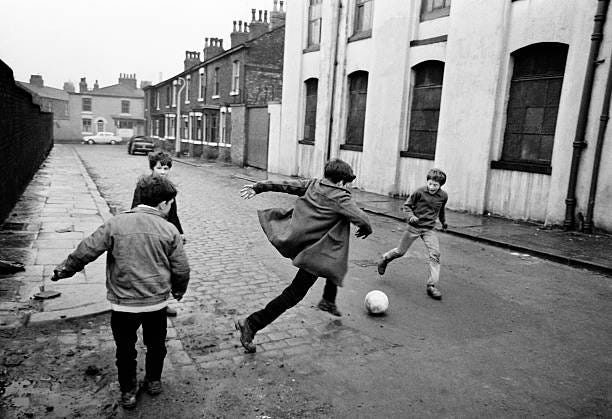Person: (64, 170, 197, 405), (243, 152, 369, 357), (383, 165, 464, 299)
